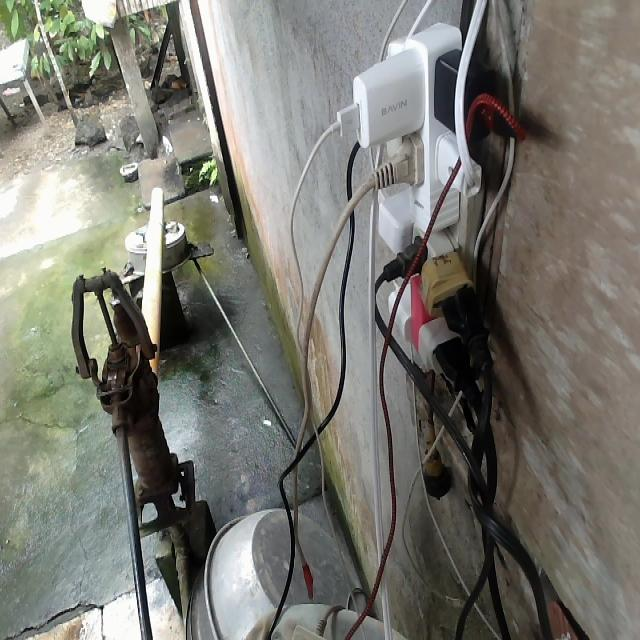-: (334, 20, 499, 373)
